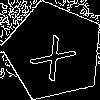X: (28, 26, 85, 82)
